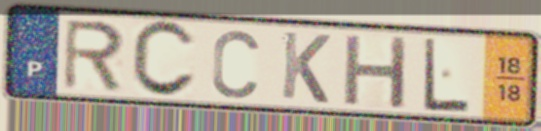C: (128, 18, 199, 101), (209, 26, 263, 101)
H: (340, 31, 412, 111)
K: (278, 28, 334, 106)
L: (421, 35, 472, 115)
R: (60, 18, 127, 94)
